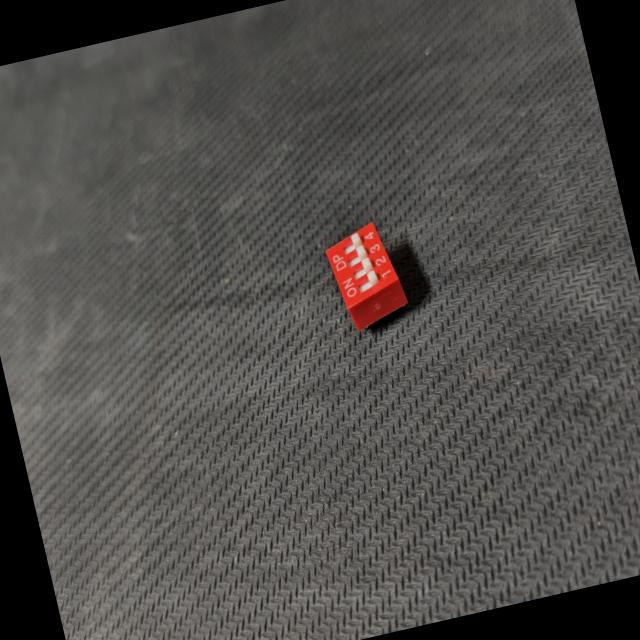switch: (311, 205, 424, 356)
